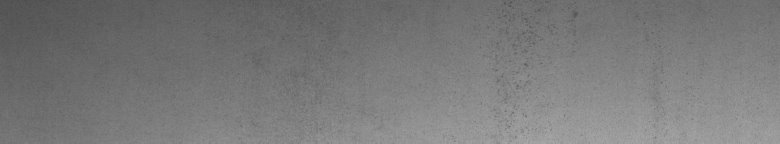ib: (498, 4, 582, 116)
